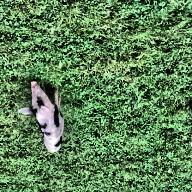boar: (19, 81, 64, 153)
